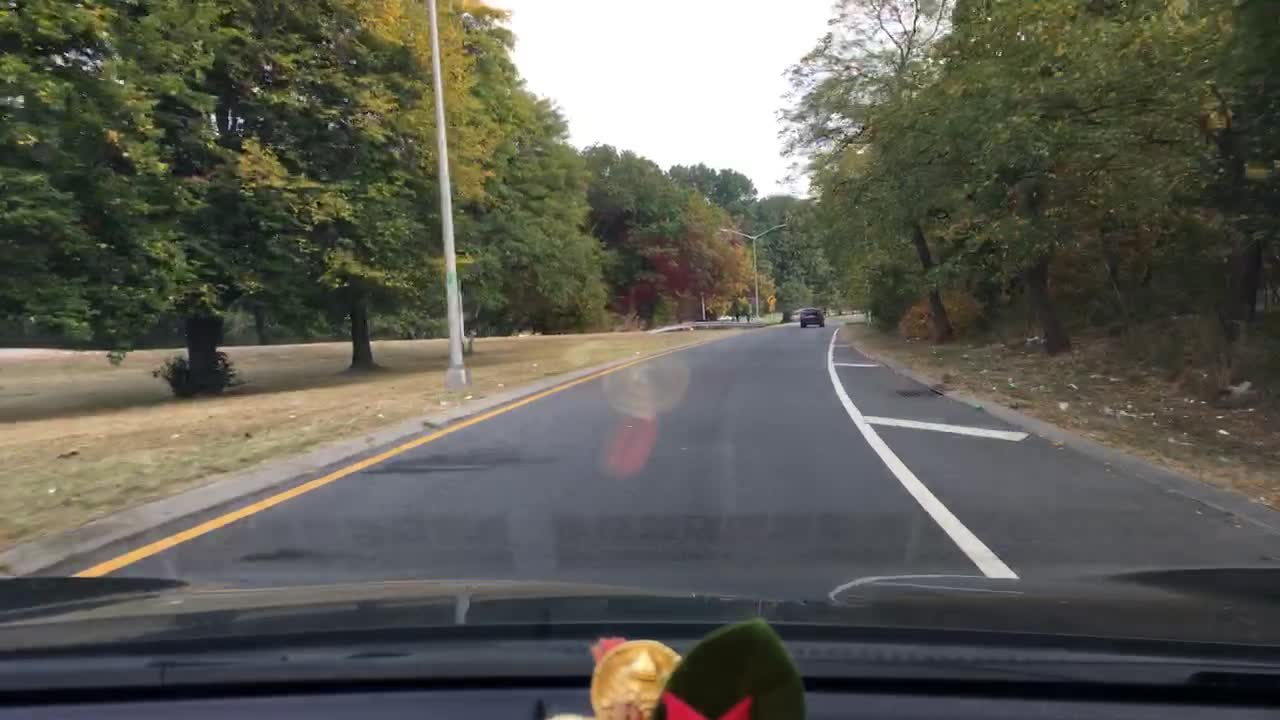car: (797, 307, 824, 328), (716, 315, 735, 323)
traffic sign: (766, 294, 776, 304), (768, 302, 773, 311)
